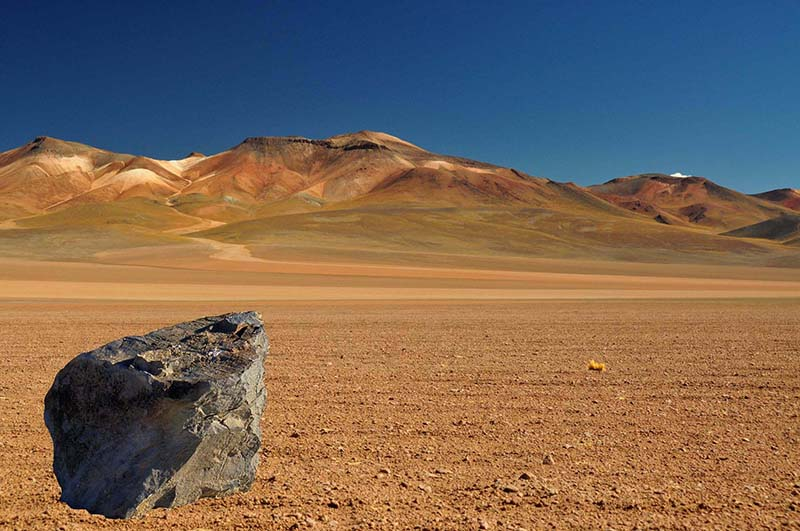Rocks: (40, 305, 269, 520)
